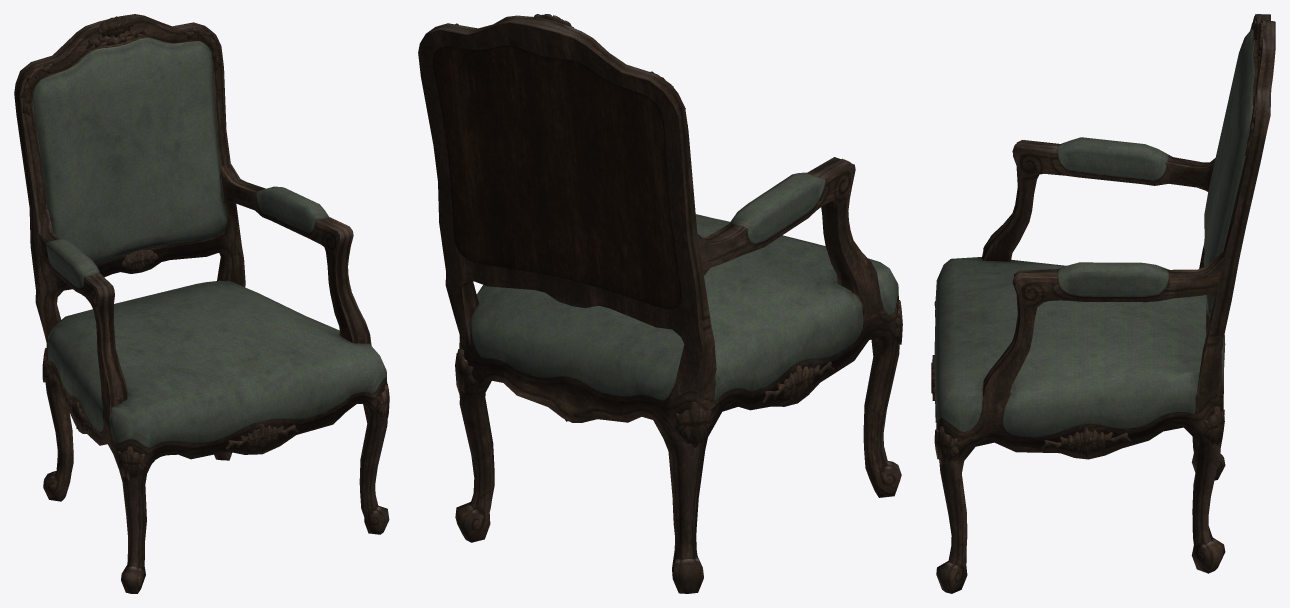
Rendered from green_chair_01_4k-v1.glb.
The picture shows the model from 3 angles, left to right: view 1: azimuth 30°, elevation 25°; view 2: azimuth 150°, elevation 25°; view 3: azimuth 270°, elevation 25°; orthographic projection. The views are drawn at different scales.
Visible parts, largest first — view 1: GreenChair_01; view 2: GreenChair_01; view 3: GreenChair_01.
Boxes of the visible parts, x1,y1,x2,y2 form: GreenChair_01: [14, 14, 389, 593]; GreenChair_01: [418, 14, 902, 593]; GreenChair_01: [931, 14, 1275, 593].
Bounding box in the file's own units: 0.6731 × 1.06 × 0.6644.
Materials: 1 (1 with a texture image).
